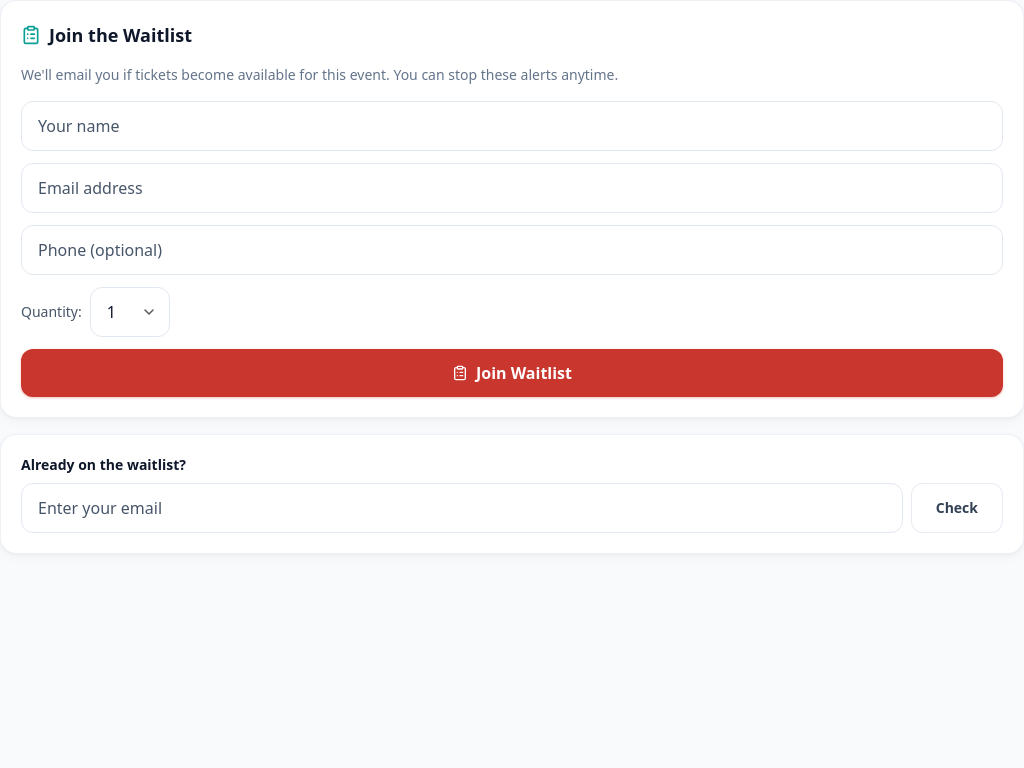
Test: keeps valid entries visible when another saved token fails ({"response":{"status":404}})
In the field with placeholder "Enter your email": (462, 508) [21,483,903,533], type "buyer@example.test"
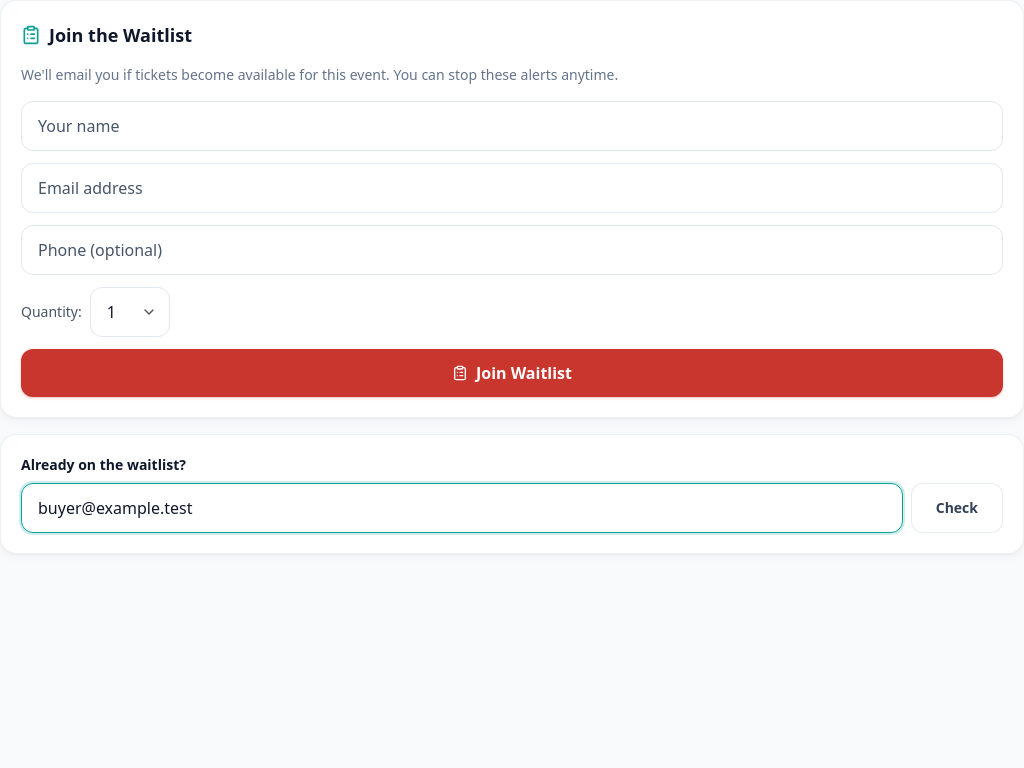
Click the button "Check": (957, 508) [911,483,1003,533]
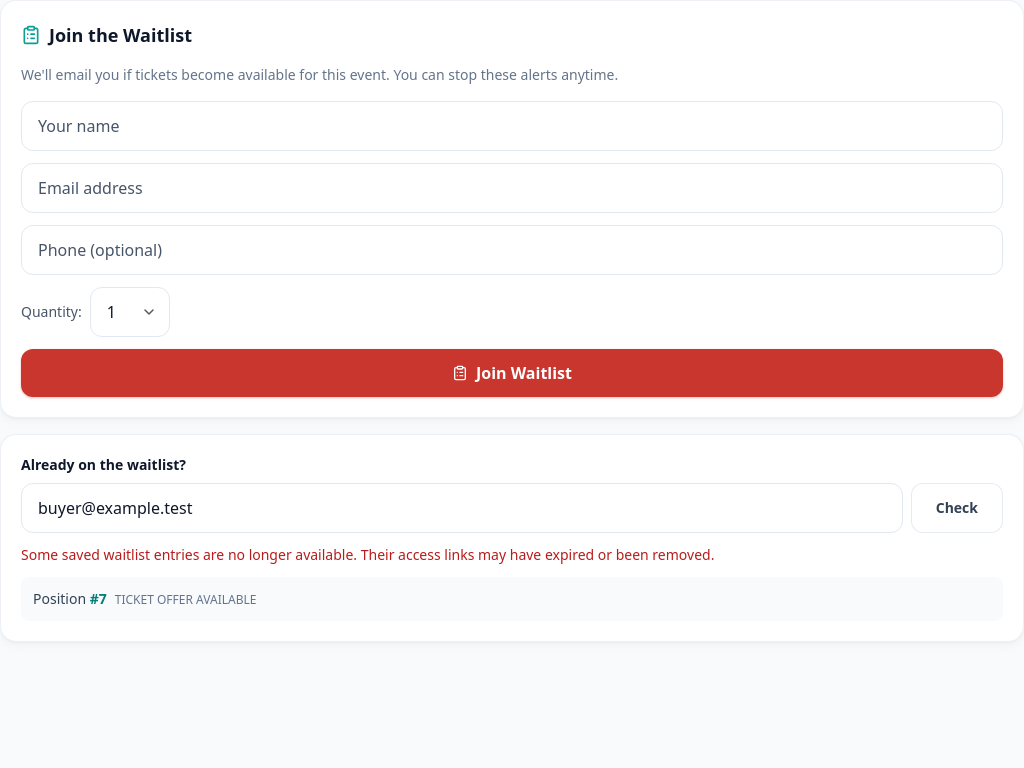
Result: the text "Ticket offer available" is shown at [115,591,256,608]
Result: the text "#7" is shown at [90,589,107,608]
Result: the message shows "Some saved waitlist entries are no longer available." at [21,545,714,564]
